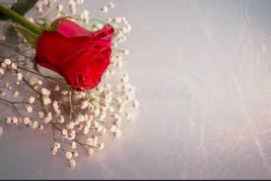RedRose: (38, 19, 111, 91)
